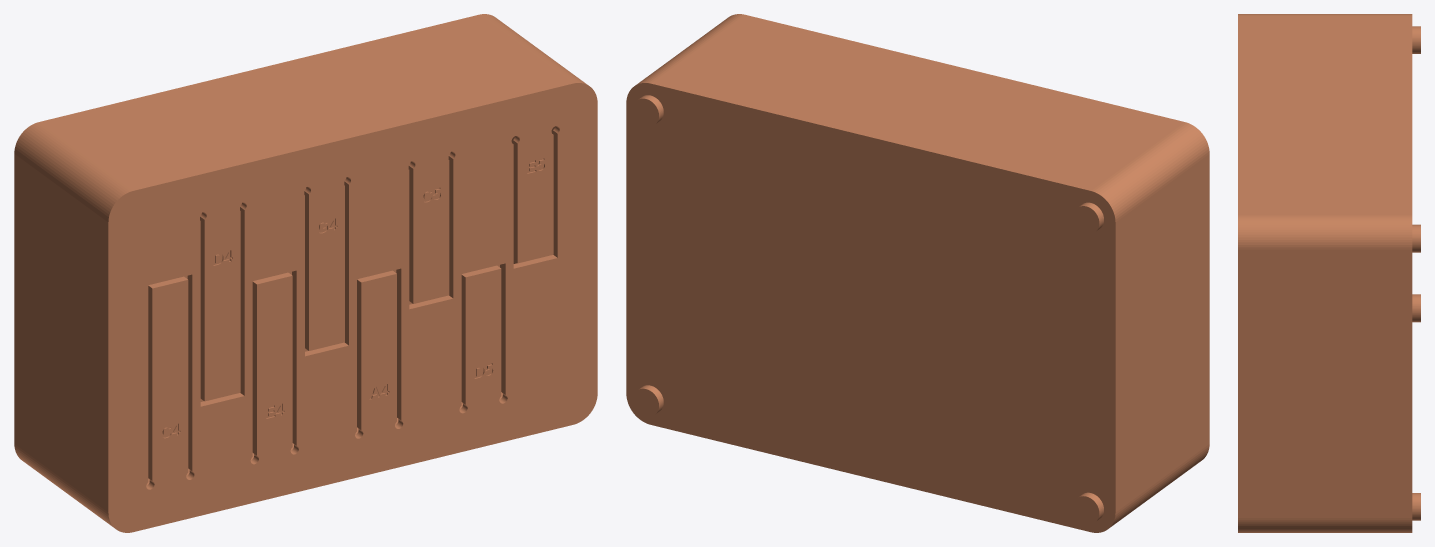
Rendered from tongue-drum-arena-winner.glb.
3 views of the same model, side by side, from view 1: azimuth 30°, elevation 25°; view 2: azimuth 150°, elevation 25°; view 3: azimuth 270°, elevation 25° (orthographic). The views are drawn at different scales.
Visible parts, largest first — view 1: body_0; view 2: body_0; view 3: body_0.
Part boxes in pixels (x1,y1,x2,y2): body_0: (14,14,597,532); body_0: (626,14,1209,532); body_0: (1238,14,1420,532).
Size of the model in its own units: 300 by 200 by 105.
